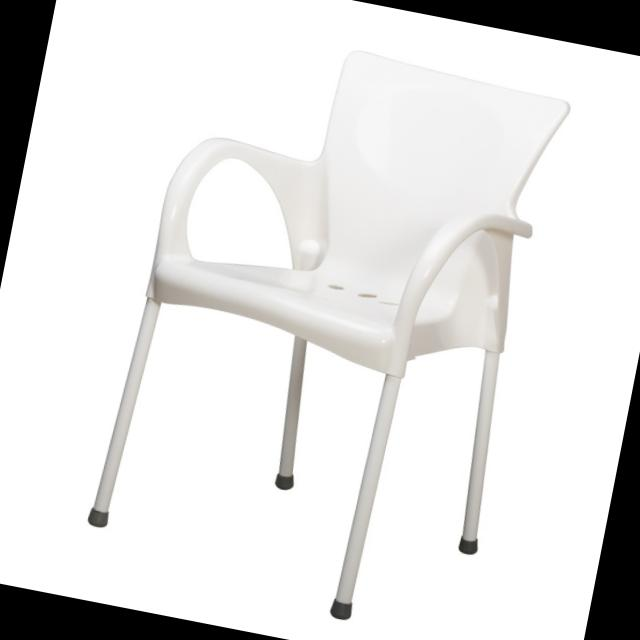Chair: (67, 7, 578, 640)
